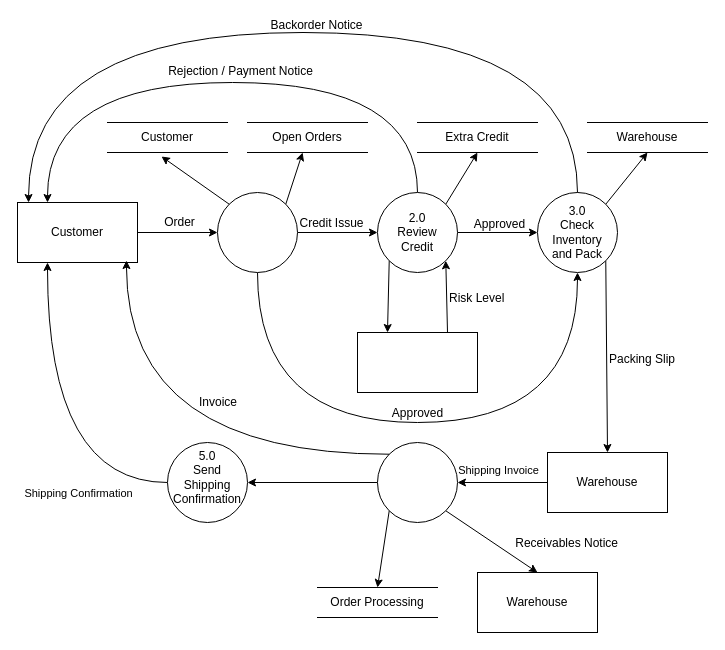
Some shapes in this 725 by 650 pixel diagram are drawn without their labels. Each missing label, with the centre of its shape:
"1.0 Process Order" belongs at point 257,232.
"4.0 Generate Invoice" belongs at point 417,482.
"Credit Bureau" belongs at point 417,362.
